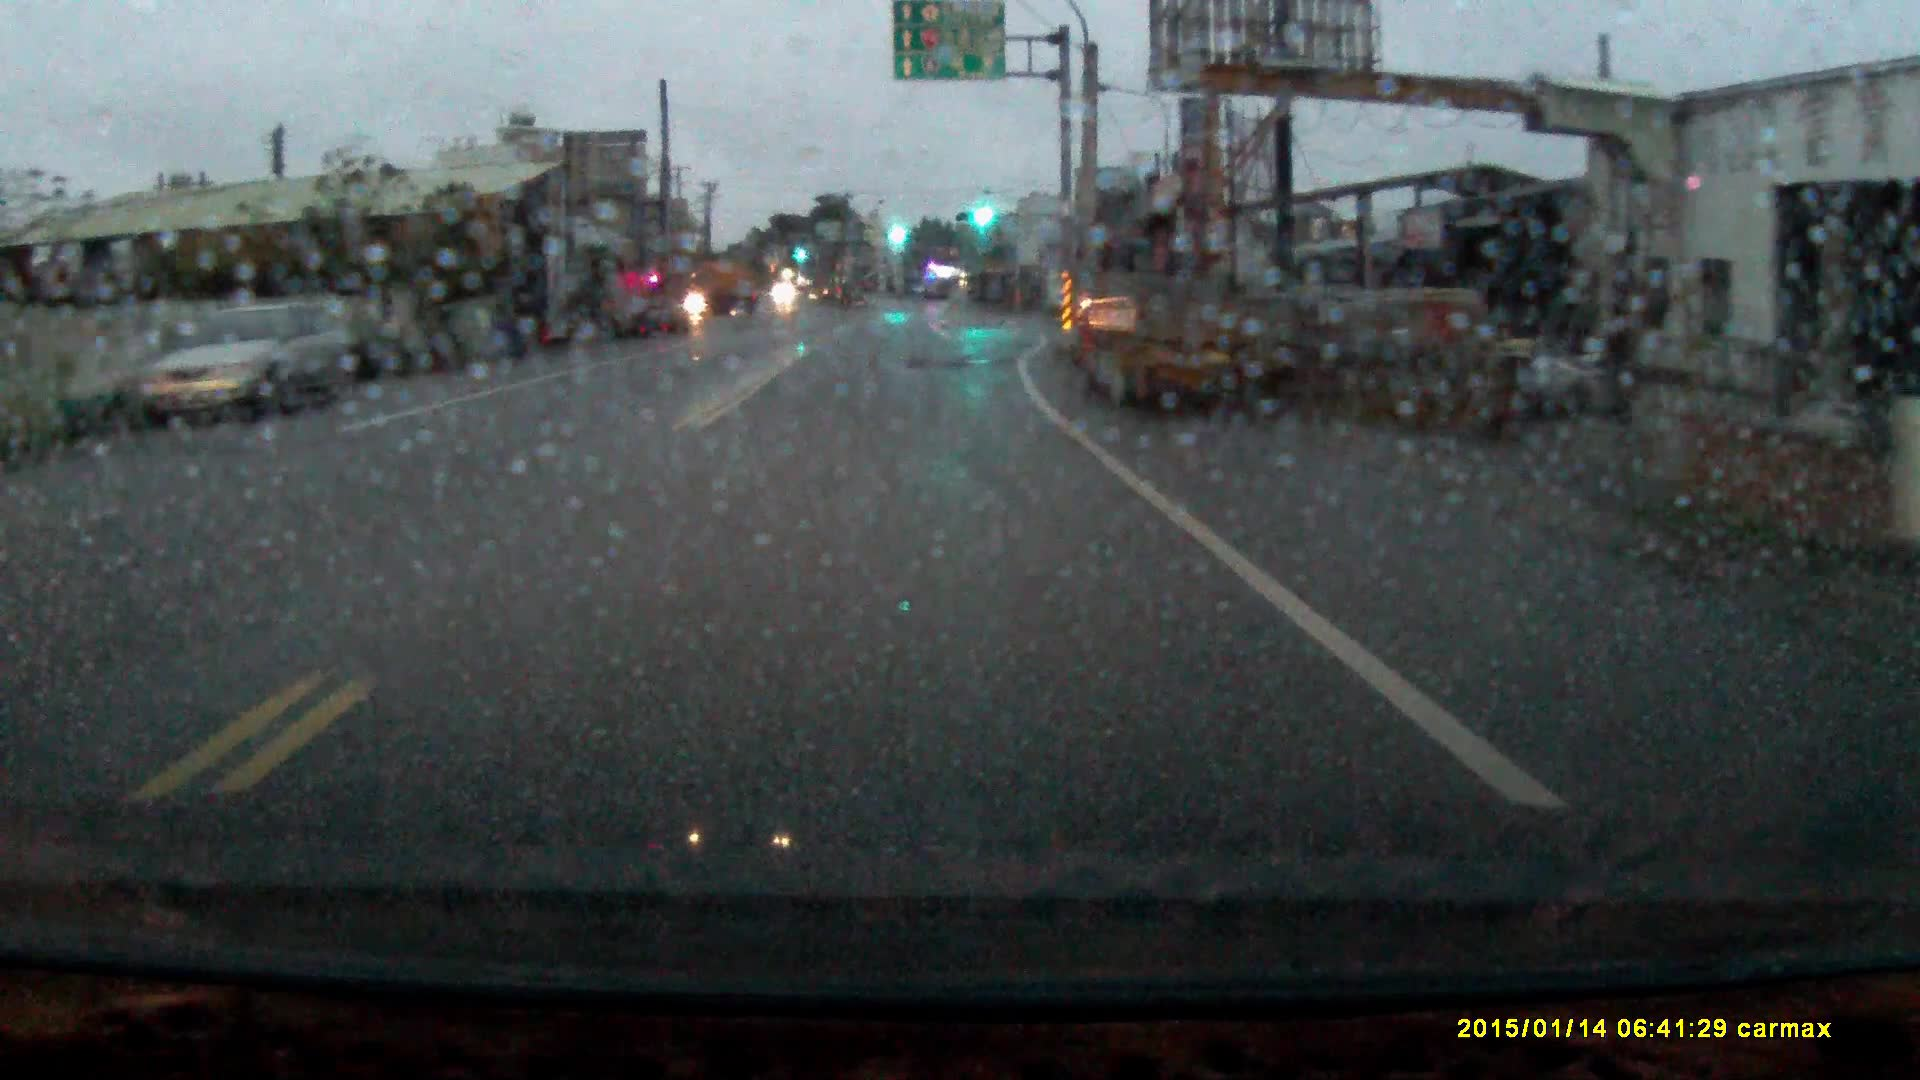vehicle: (1065, 233, 1286, 423), (136, 302, 347, 426), (675, 260, 760, 322)
